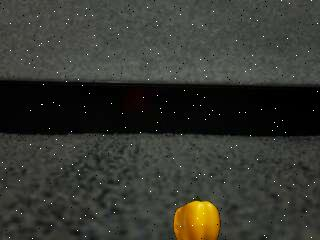Tomato: (174, 197, 220, 240)
